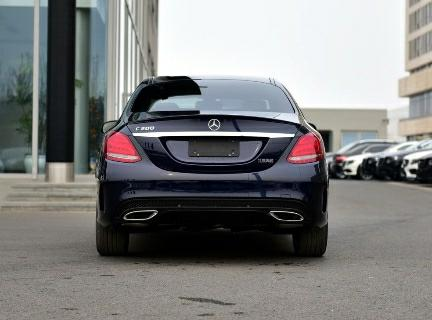car: (84, 63, 340, 268)
